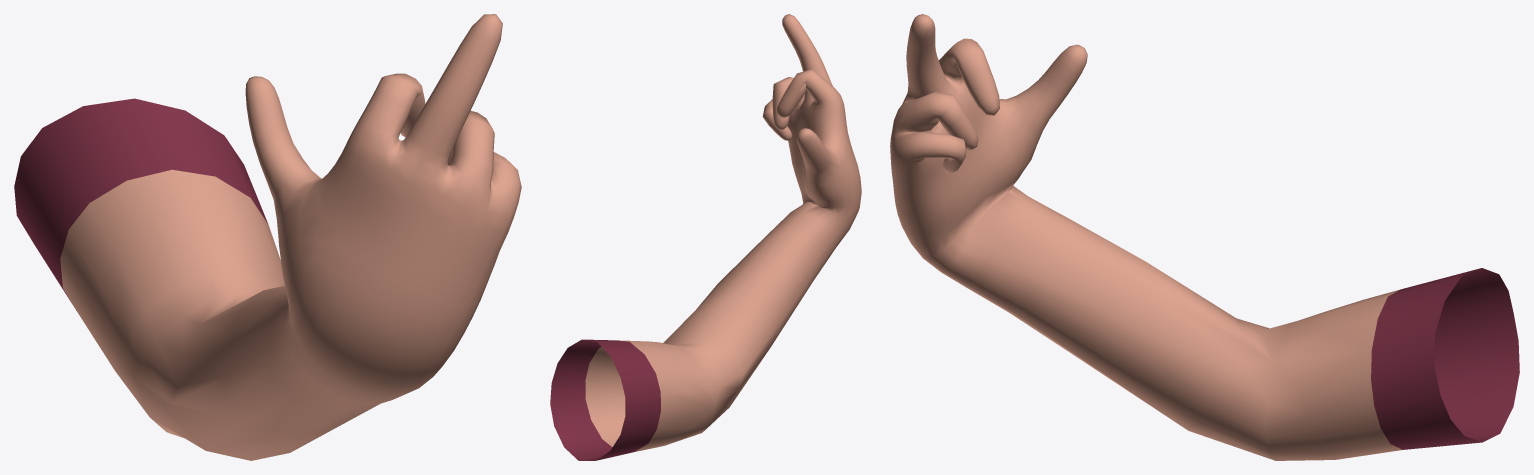
Rendered from bras.fbx.
3 renders of one model, left to right at view 1: azimuth 30°, elevation 25°; view 2: azimuth 150°, elevation 25°; view 3: azimuth 270°, elevation 25°, orthographic. The views are drawn at different scales.
Visible parts, largest first — view 1: DORIAN; view 2: DORIAN; view 3: DORIAN.
Boxes of the visible parts, box(x1,y1,x2,y2) form: DORIAN: box(14, 14, 521, 460); DORIAN: box(550, 14, 861, 460); DORIAN: box(890, 14, 1519, 460).
Bounding box in the file's own units: 15.74 × 34.6 × 43.86.
